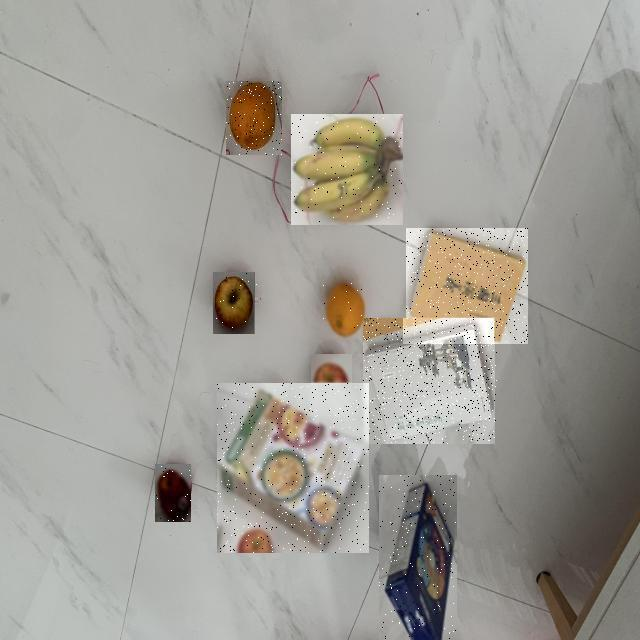Apple: (214, 272, 258, 334), (311, 354, 352, 416), (155, 465, 191, 523)
Banana: (291, 114, 403, 225)
Book: (364, 319, 498, 445), (406, 229, 528, 345)
Cereal: (217, 383, 369, 553), (379, 475, 457, 640)
Orange: (227, 81, 283, 155), (321, 281, 367, 339)
